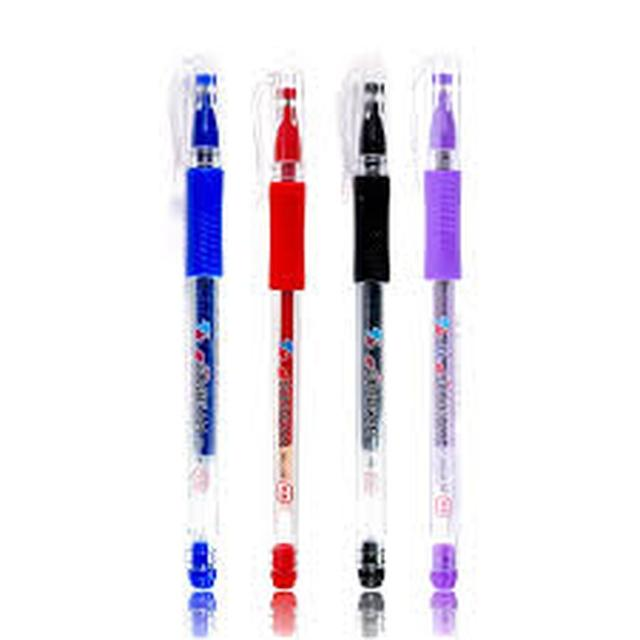pen: (170, 50, 232, 640), (262, 44, 317, 612), (437, 39, 489, 595), (357, 49, 397, 596)
